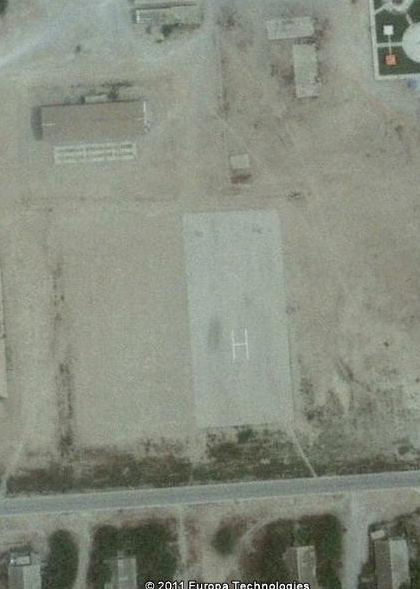heliport: (227, 325, 255, 366)
